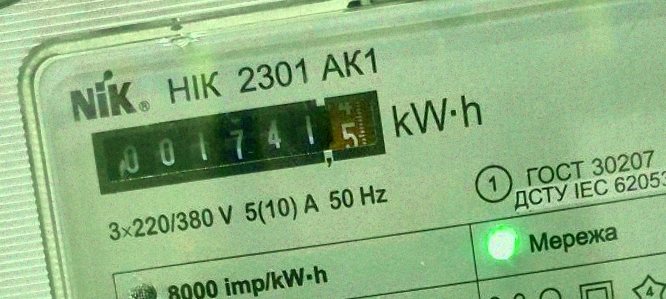0: (154, 133, 177, 169), (119, 141, 142, 176)
1: (190, 127, 211, 165), (298, 112, 318, 148)
4: (261, 115, 285, 152), (335, 98, 353, 118)
5: (337, 117, 359, 150)
7: (226, 125, 247, 162)
screen: (83, 82, 394, 202)
